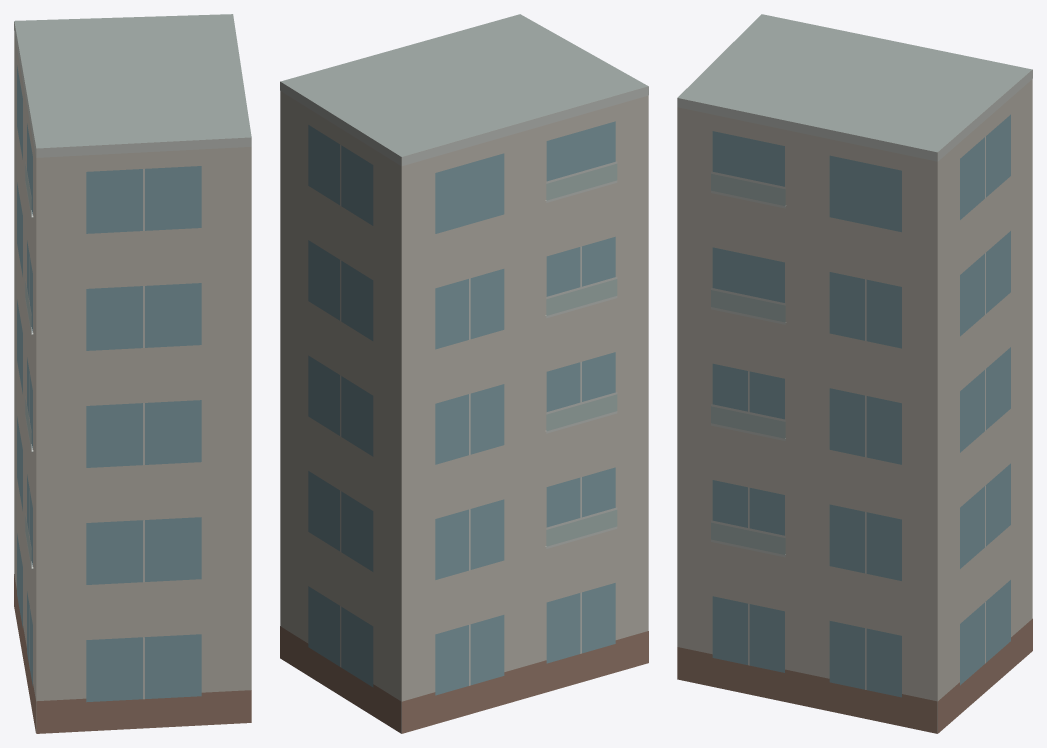
The model's file is survey-upis-32624127.glb.
The picture shows the model from 3 angles, left to right: view 1: azimuth 30°, elevation 25°; view 2: azimuth 150°, elevation 25°; view 3: azimuth 270°, elevation 25°; orthographic projection.
Parts seen in each view (by area): view 1: survey-upis-32624127.tmp; view 2: survey-upis-32624127.tmp; view 3: survey-upis-32624127.tmp.
Boxes of the visible parts, box(x1,y1,x2,y2) form: survey-upis-32624127.tmp: box(14, 14, 251, 733); survey-upis-32624127.tmp: box(280, 14, 648, 733); survey-upis-32624127.tmp: box(677, 14, 1032, 733).
Bounding box in the file's own units: 7.79 × 15.25 × 8.46.
